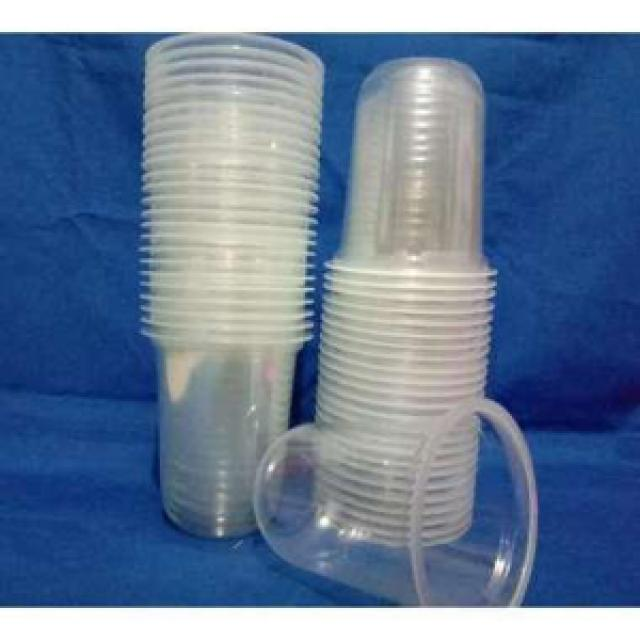plastic cup: (134, 34, 328, 544), (320, 47, 499, 424), (250, 388, 546, 604)
